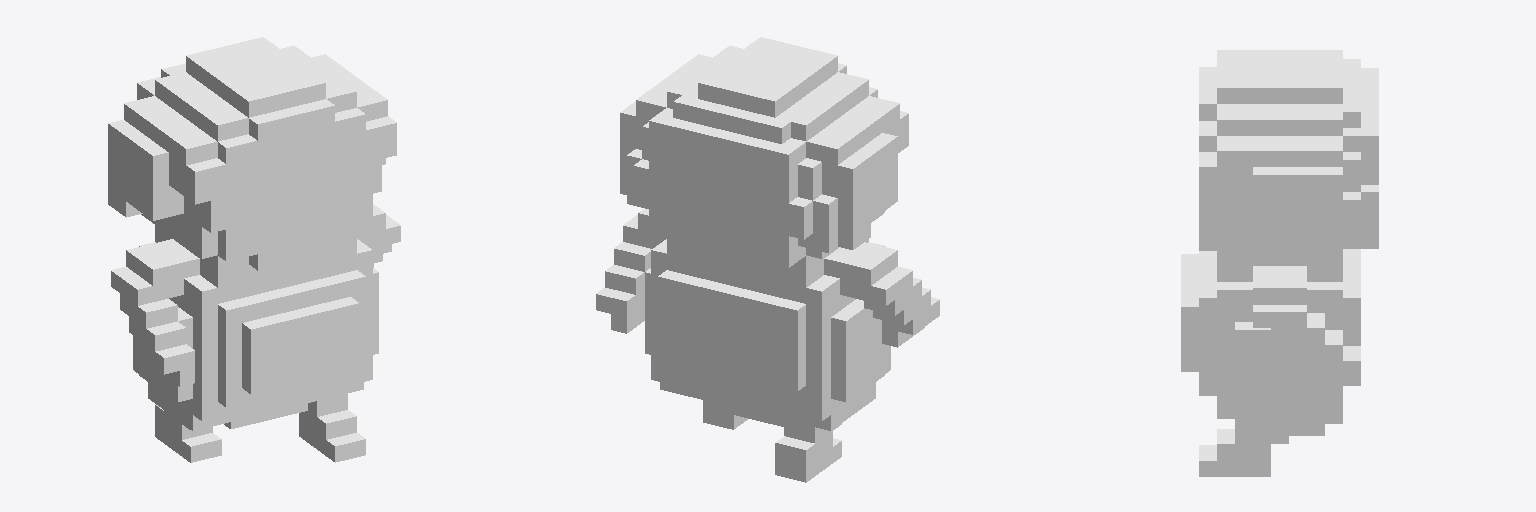
Rendered from fat_npc_left.obj.
The picture shows the model from 3 angles: view 1: azimuth 30°, elevation 25°; view 2: azimuth 150°, elevation 25°; view 3: azimuth 270°, elevation 25°; orthographic projection.
Visible parts, largest first — view 1: object 1; view 2: object 1; view 3: object 1.
Part boxes in pixels (x1,y1,x2,y2): object 1: (108, 37, 400, 462); object 1: (596, 37, 939, 482); object 1: (1181, 50, 1378, 476).
Size of the model in its own units: 1.7 by 2.3 by 1.1.